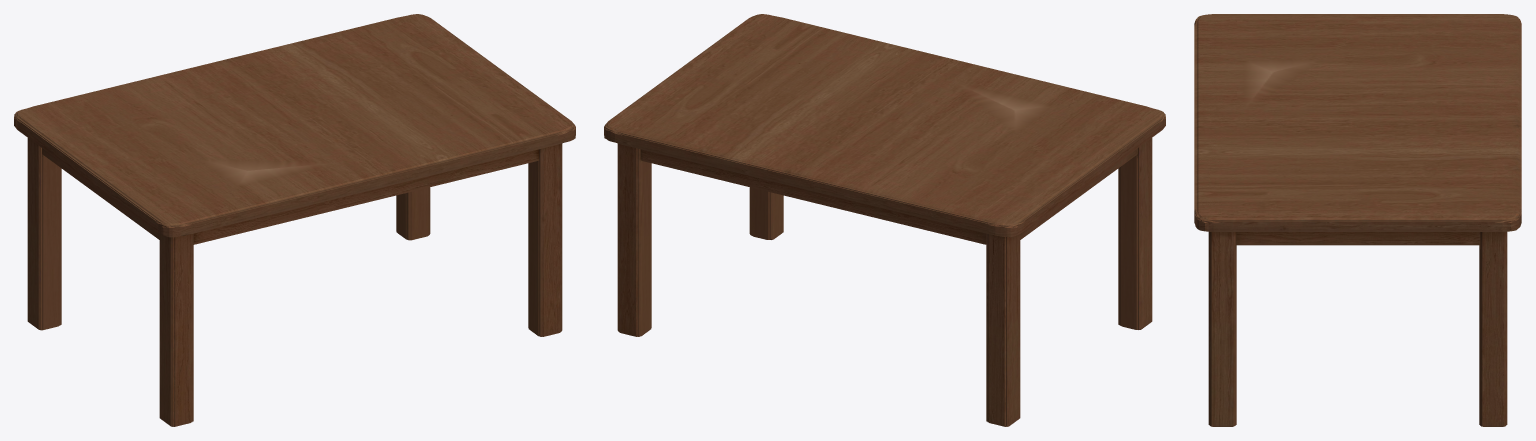
Rendered from woodendiningtable.glb.
3 views of the same model, side by side, from view 1: azimuth 30°, elevation 25°; view 2: azimuth 150°, elevation 25°; view 3: azimuth 270°, elevation 25° (orthographic). The views are drawn at different scales.
Parts seen in each view (by area): view 1: tripo_node_4a8c480e-1329-48e2-90e8-2359dd57f558; view 2: tripo_node_4a8c480e-1329-48e2-90e8-2359dd57f558; view 3: tripo_node_4a8c480e-1329-48e2-90e8-2359dd57f558.
Boxes of the visible parts, x1=… form: tripo_node_4a8c480e-1329-48e2-90e8-2359dd57f558: x1=14, y1=14, x2=575, y2=426; tripo_node_4a8c480e-1329-48e2-90e8-2359dd57f558: x1=604, y1=14, x2=1165, y2=426; tripo_node_4a8c480e-1329-48e2-90e8-2359dd57f558: x1=1194, y1=14, x2=1521, y2=426.
Bounding box in the file's own units: 1 × 0.4796 × 0.6674.
1 material, 1 textured.
